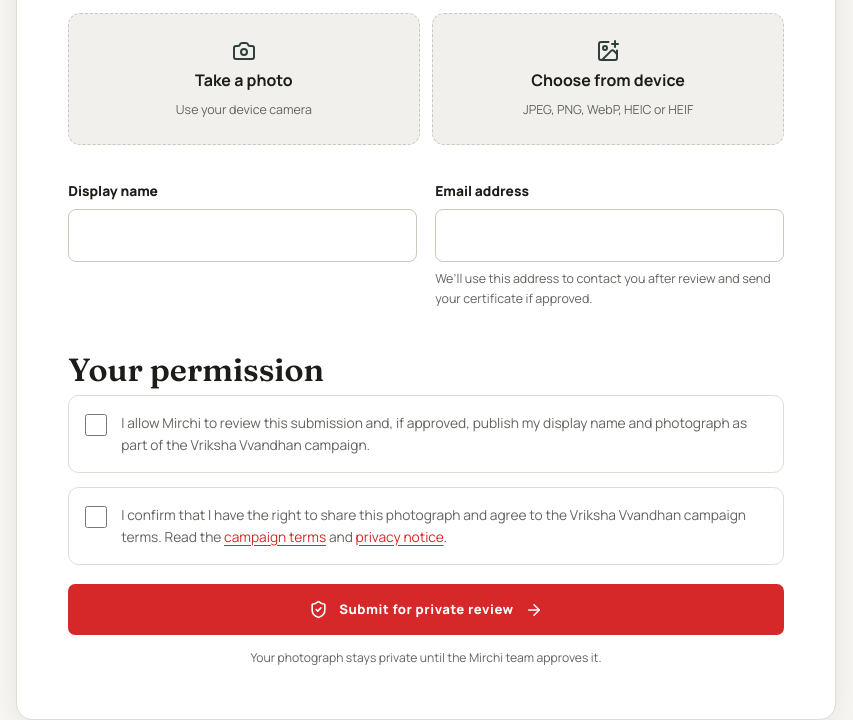
Scenario: public submission form › shows an error summary, links inline errors, and focuses the first invalid field
(page scrolled)
Click the button "Submit for private review": x=426, y=610 left=68, top=584, right=784, bottom=635
(page scrolled)
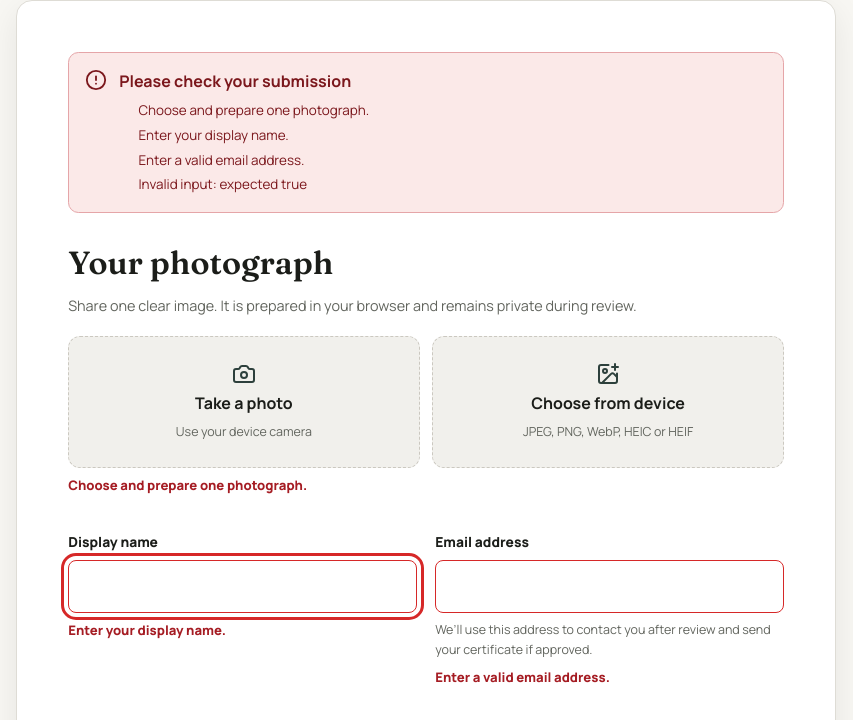
Expected: the message shows "Choose and prepare one photograph", left=138, top=101, right=369, bottom=119
